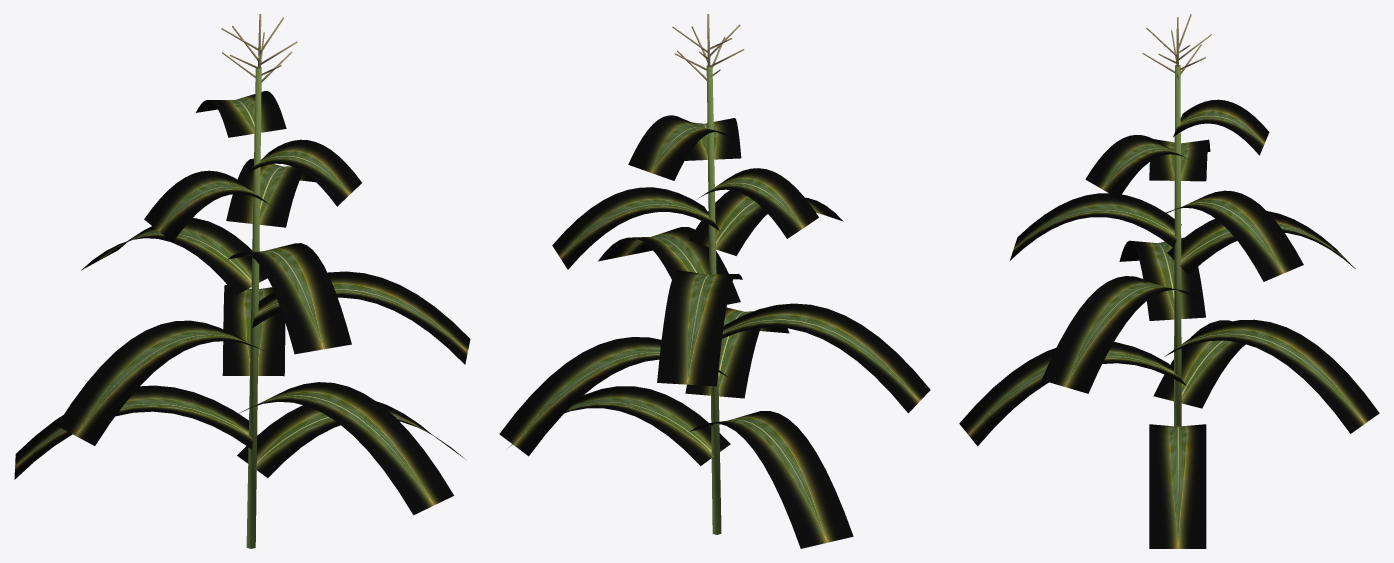
File: maize-curved.glb
3 renders of one model, left to right at view 1: azimuth 30°, elevation 25°; view 2: azimuth 150°, elevation 25°; view 3: azimuth 270°, elevation 25°, orthographic. The views are drawn at different scales.
Visible parts, largest first — view 1: Maize leaf, Maize stalk, Maize tassel; view 2: Maize leaf, Maize stalk, Maize tassel; view 3: Maize leaf, Maize stalk, Maize tassel.
Boxes of the visible parts, x1,y1,x2,y2 form: Maize leaf: [14, 91, 470, 515]; Maize stalk: [246, 67, 261, 548]; Maize tassel: [221, 14, 297, 82]; Maize leaf: [499, 115, 930, 548]; Maize stalk: [706, 65, 721, 534]; Maize tassel: [672, 14, 744, 80]; Maize leaf: [959, 99, 1379, 548]; Maize stalk: [1174, 65, 1181, 426]; Maize tassel: [1142, 14, 1211, 81].
Size of the model in its own units: 0.7825 by 1 by 0.7791.
3 materials, 1 textured.
